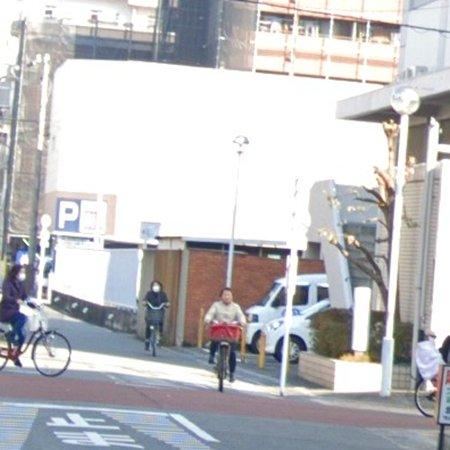bicycles: (0, 301, 71, 378)
